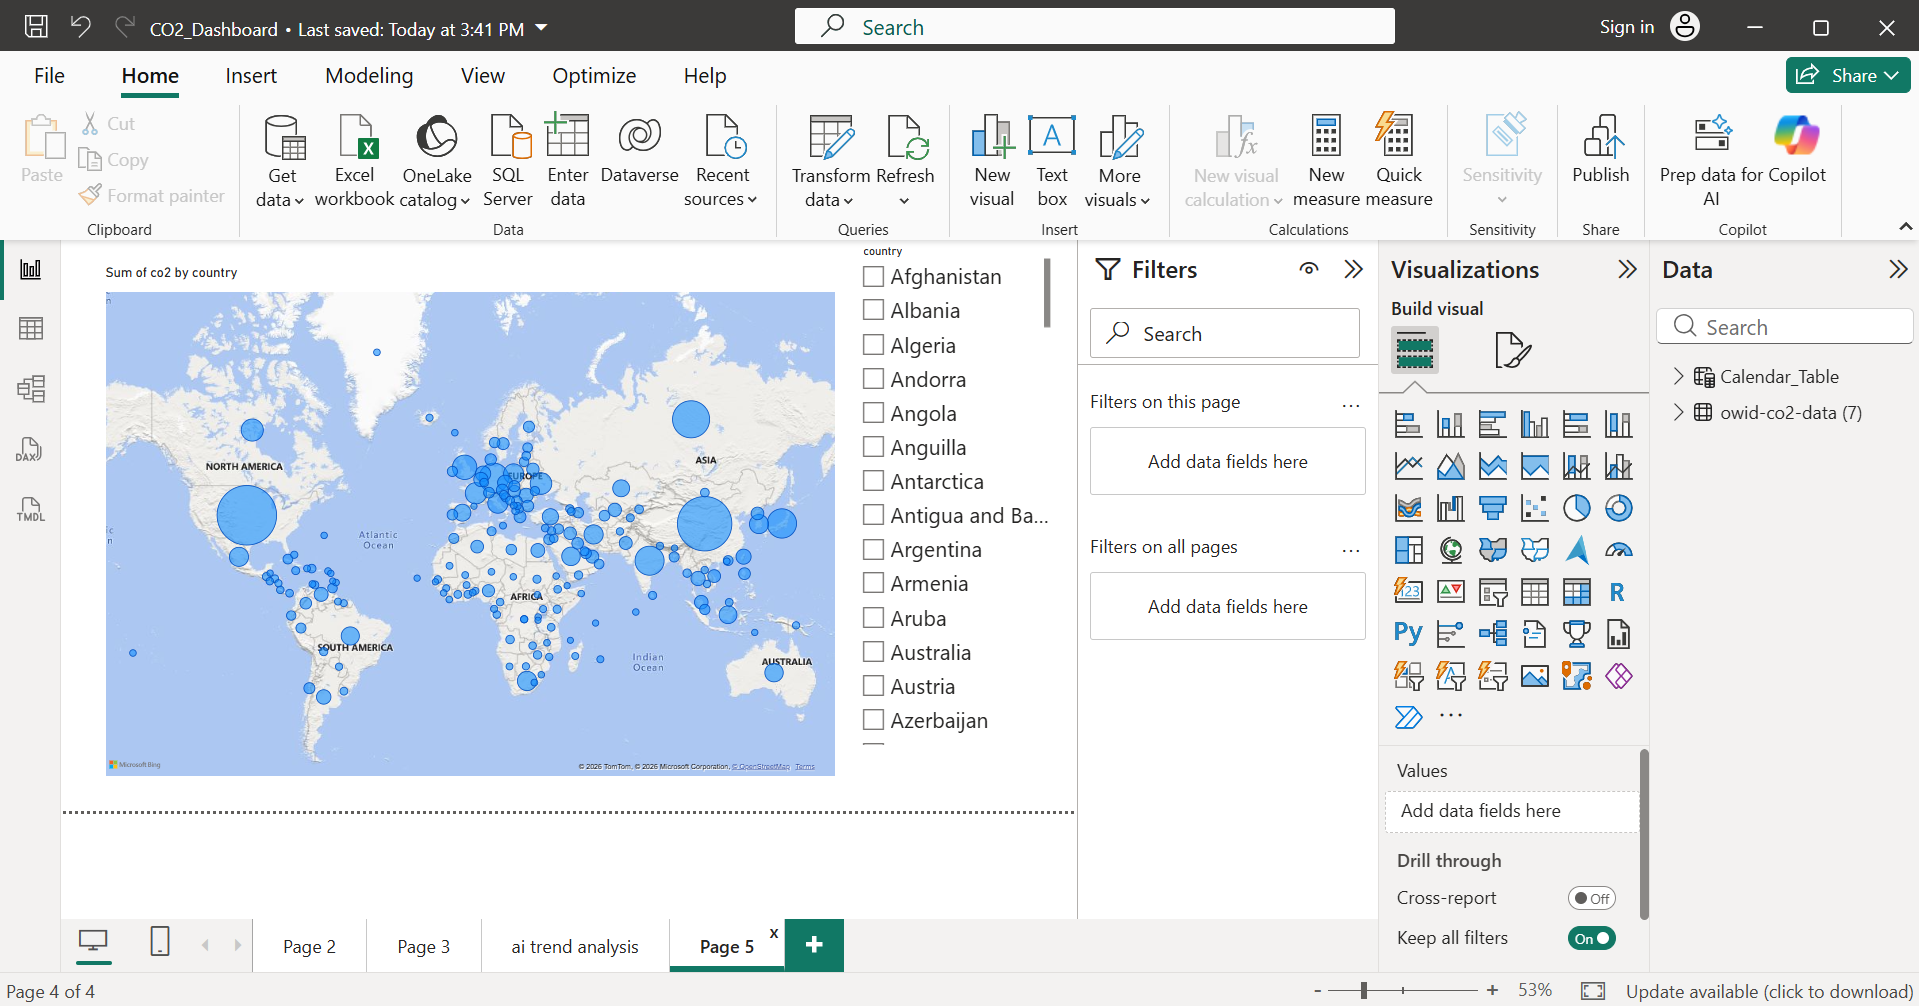

Layout of this report page (visuals, bound fields, positions):
{"tool":"powerbi","page":{"name":"Page 5","canvas":[1280,720],"ordinal":3},"visuals":[{"type":"map","fields":{"Category":["owid-co2-data (7).country"],"Size":["Sum(owid-co2-data (7).co2)"]},"box":[51.9,30.8,928.8,650],"z":0},{"type":"slicer","fields":{"Values":["owid-co2-data (7).country"]},"box":[998.1,0,253.8,640.4],"z":1000}]}

Visuals, with their boxes on the page's 1280x720 design canvas (x1, y1, x2, y2). These are canvas units, not pixel positions in the 1919x1006 screenshot, which may show the page scaled, cropped or inside an application window:
map - owid-co2-data (7).country x Sum(owid-co2-data (7).co2): [52,31,981,681]
slicer - owid-co2-data (7).country: [998,0,1252,640]
